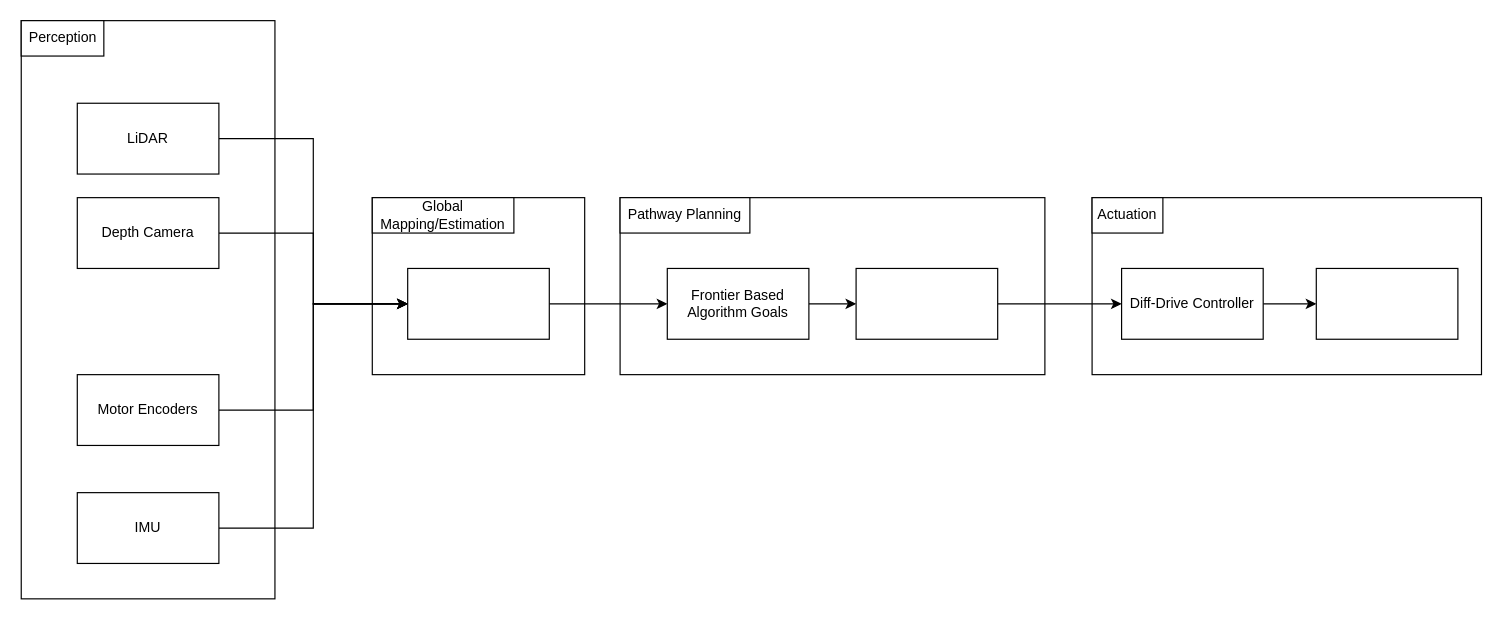
This 1502x620 diagram has some shape labels left out. Here are the shapes that lost their labels. From the top down, the centre of each, then its label:
At (478,303): "SLAM Toolbox".
At (926,303): "Nav2 Global Planner".
At (1386,303): "Motor Hardware Interface".
